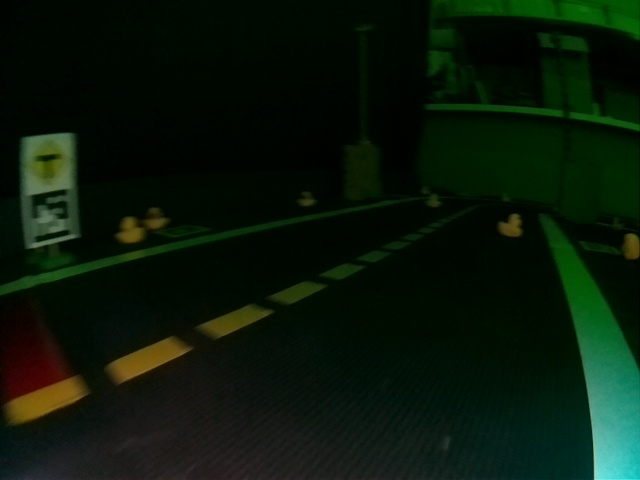Duckie: (497, 214, 524, 239), (145, 207, 169, 228), (118, 219, 140, 241), (623, 233, 640, 261), (297, 191, 312, 206)
Intersection sign: (23, 137, 73, 185)
QR code: (25, 193, 79, 243), (579, 241, 614, 254)
